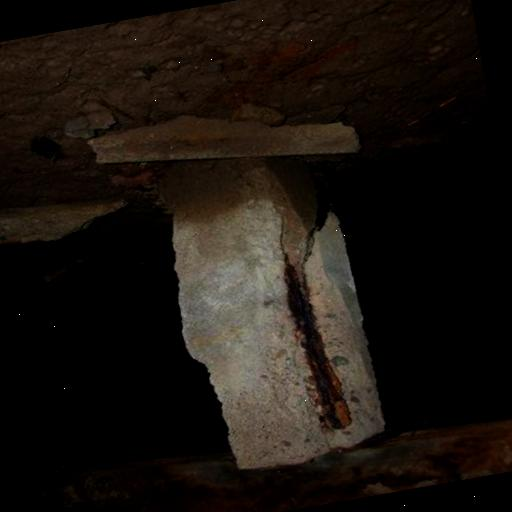spalling: (240, 206, 372, 460)
